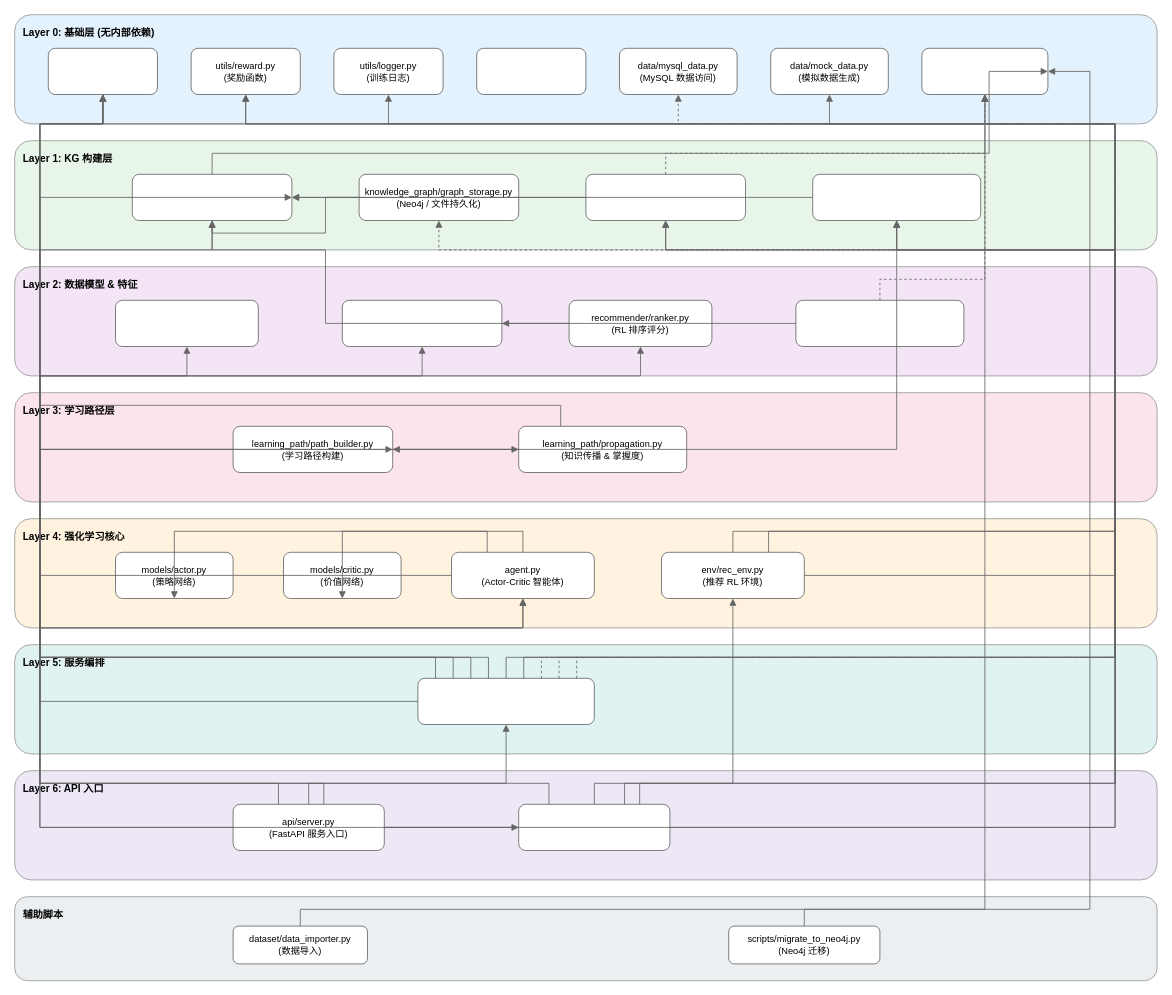
The diagram is 1172 pixels wide and 995 high, and some of its shapes have lost their labels. The shapes that lost their labels are listed below. From the top down, each one's centre as x and y in pixels, then its label:
At [102,70]: "config.py (默认配置)".
At [531,70]: "utils/text_utils.py (文本清洗)".
At [984,70]: "dataset/aminer_loader.py (AMiner 数据加载)".
At [211,196]: "knowledge_graph/kg_builder.py (KG 构建 & 数据模型)".
At [665,196]: "knowledge_graph/kg_embedder.py (KG 嵌入表示)".
At [896,196]: "knowledge_graph/graph_query.py (图查询 & 推荐解释)".
At [186,322]: "features/feature_builder.py (用户特征构建)".
At [421,322]: "recommender/candidate_generator.py (候选论文生成)".
At [879,322]: "embeddings/embedding_builder.py (论文嵌入构建)".
At [505,700]: "services/recommendation_service.py (推荐服务编排)".
At [594,826]: "train.py (RL 训练入口)".
